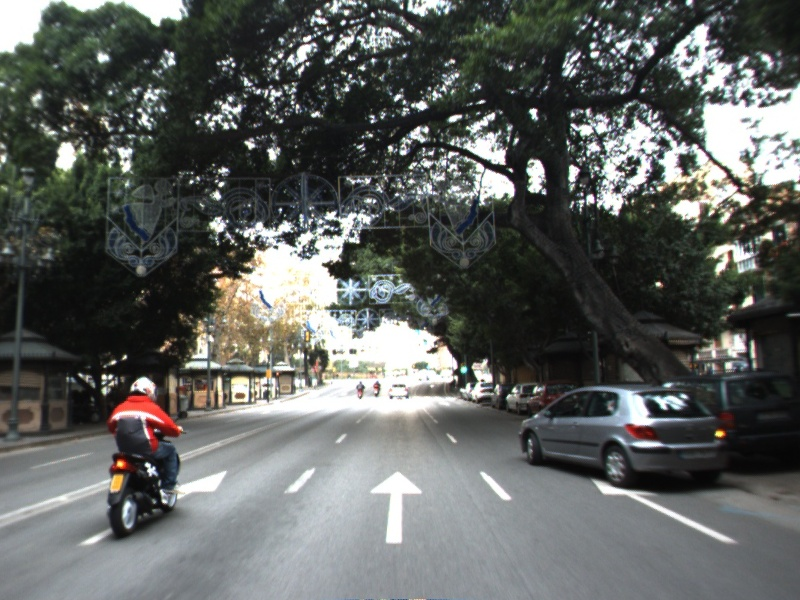STRAIGHT: (71, 466, 231, 549), (587, 474, 742, 548), (366, 468, 426, 546)
